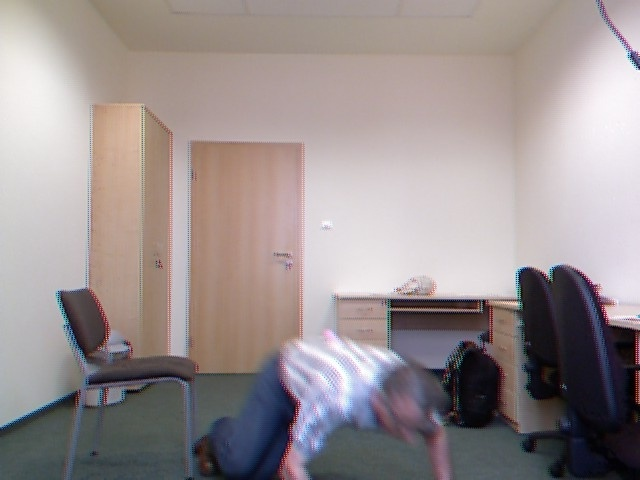fall: (182, 328, 464, 480)
